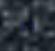five: (19, 20, 26, 31)
four: (27, 20, 34, 30)
